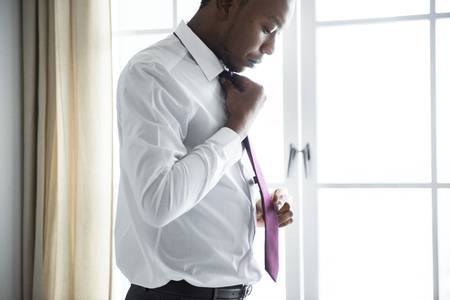F_shirt: (112, 18, 272, 291)
